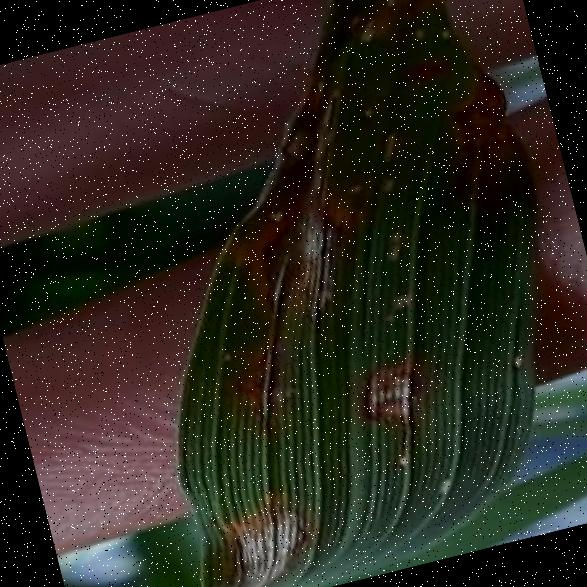Leaf_smut: (226, 126, 415, 337), (394, 64, 540, 216), (192, 477, 349, 587), (324, 333, 442, 450), (218, 335, 318, 438)
